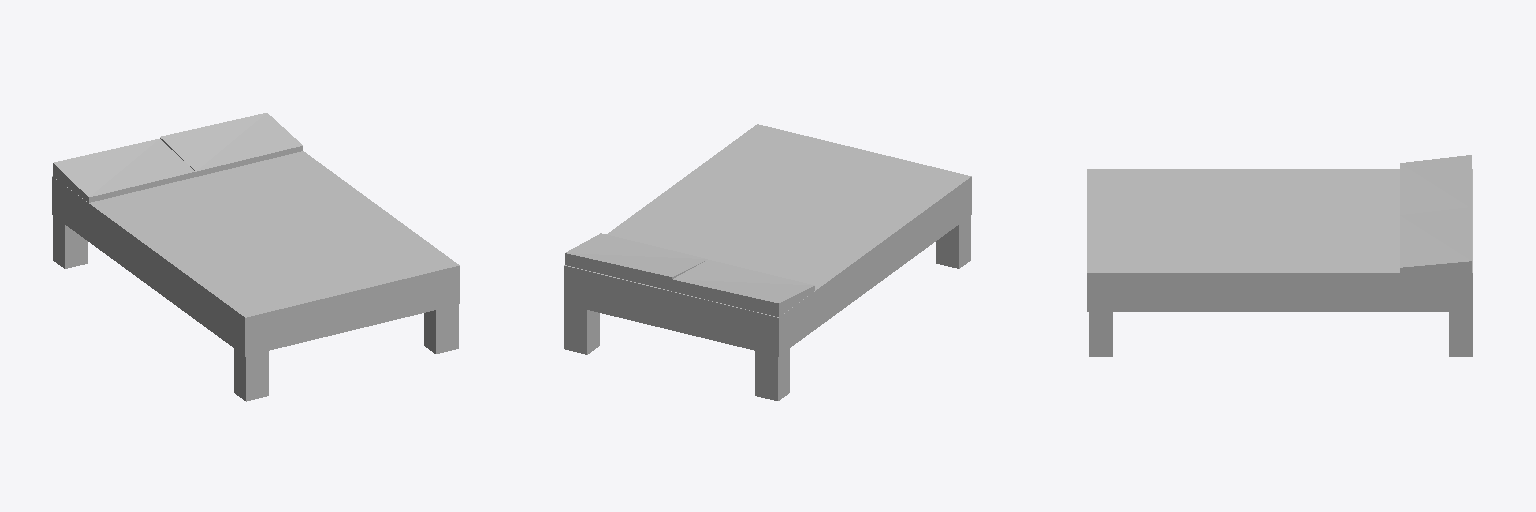
Rendered from cama.obj.
3 renders of one model, left to right at view 1: azimuth 30°, elevation 25°; view 2: azimuth 150°, elevation 25°; view 3: azimuth 270°, elevation 25°, orthographic.
Parts seen in each view (by area): view 1: Cube_Cube.001, Cube.005_Cube.008, Cube.006_Cube.009, Cube.004_Cube.005, Cube.001_Cube.002, Cube.003_Cube.004; view 2: Cube_Cube.001, Cube.005_Cube.008, Cube.006_Cube.009, Cube.003_Cube.004, Cube.002_Cube.003, Cube.004_Cube.005; view 3: Cube_Cube.001, Cube.006_Cube.009, Cube.005_Cube.008, Cube.001_Cube.002, Cube.002_Cube.003.
Boxes of the visible parts, x1,y1,x2,y2 form: Cube_Cube.001: [52, 151, 459, 356]; Cube.005_Cube.008: [53, 139, 195, 202]; Cube.006_Cube.009: [160, 113, 302, 176]; Cube.004_Cube.005: [234, 349, 268, 401]; Cube.001_Cube.002: [424, 305, 458, 353]; Cube.003_Cube.004: [53, 216, 87, 268]; Cube_Cube.001: [564, 124, 971, 356]; Cube.005_Cube.008: [671, 260, 814, 316]; Cube.006_Cube.009: [565, 233, 707, 290]; Cube.003_Cube.004: [755, 349, 789, 400]; Cube.002_Cube.003: [564, 304, 599, 354]; Cube.004_Cube.005: [936, 216, 970, 268]; Cube_Cube.001: [1087, 169, 1472, 311]; Cube.006_Cube.009: [1400, 207, 1471, 272]; Cube.005_Cube.008: [1400, 155, 1471, 214]; Cube.001_Cube.002: [1089, 312, 1112, 356]; Cube.002_Cube.003: [1449, 312, 1472, 356].
Bounding box in the file's own units: 0.9134 × 0.3986 × 1.43.